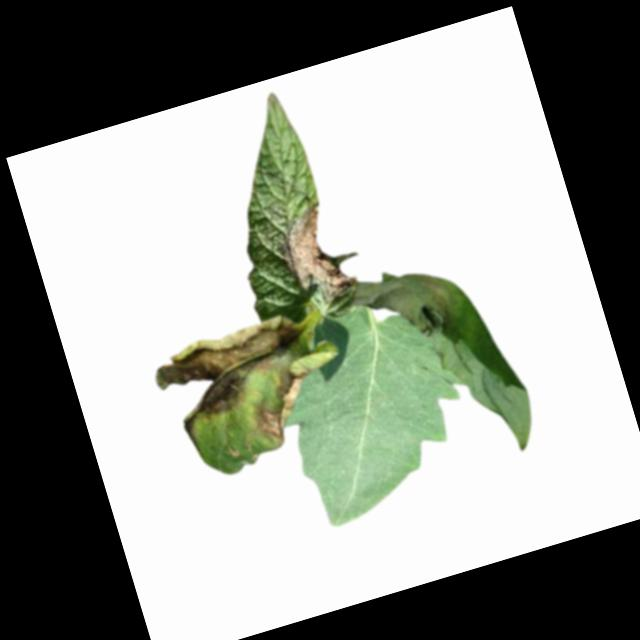Late_blight: (146, 309, 322, 442), (351, 256, 466, 353), (272, 197, 361, 308), (240, 359, 322, 450)
